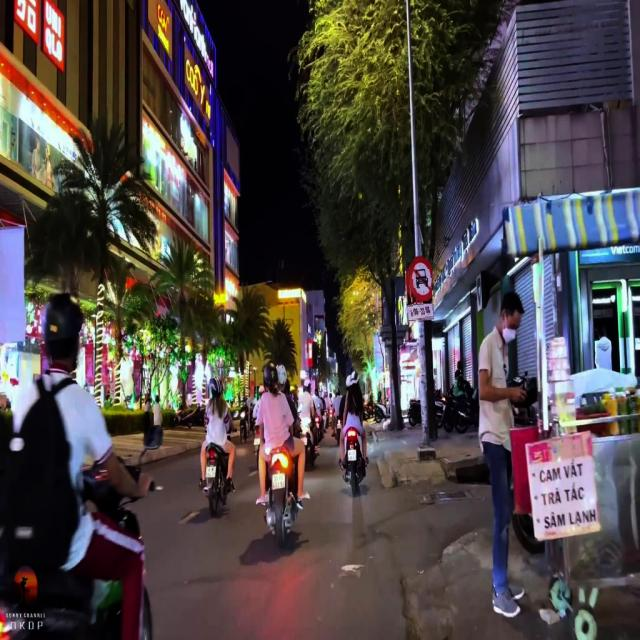cam_o_to: (406, 256, 432, 302)
khac: (408, 304, 433, 320)
